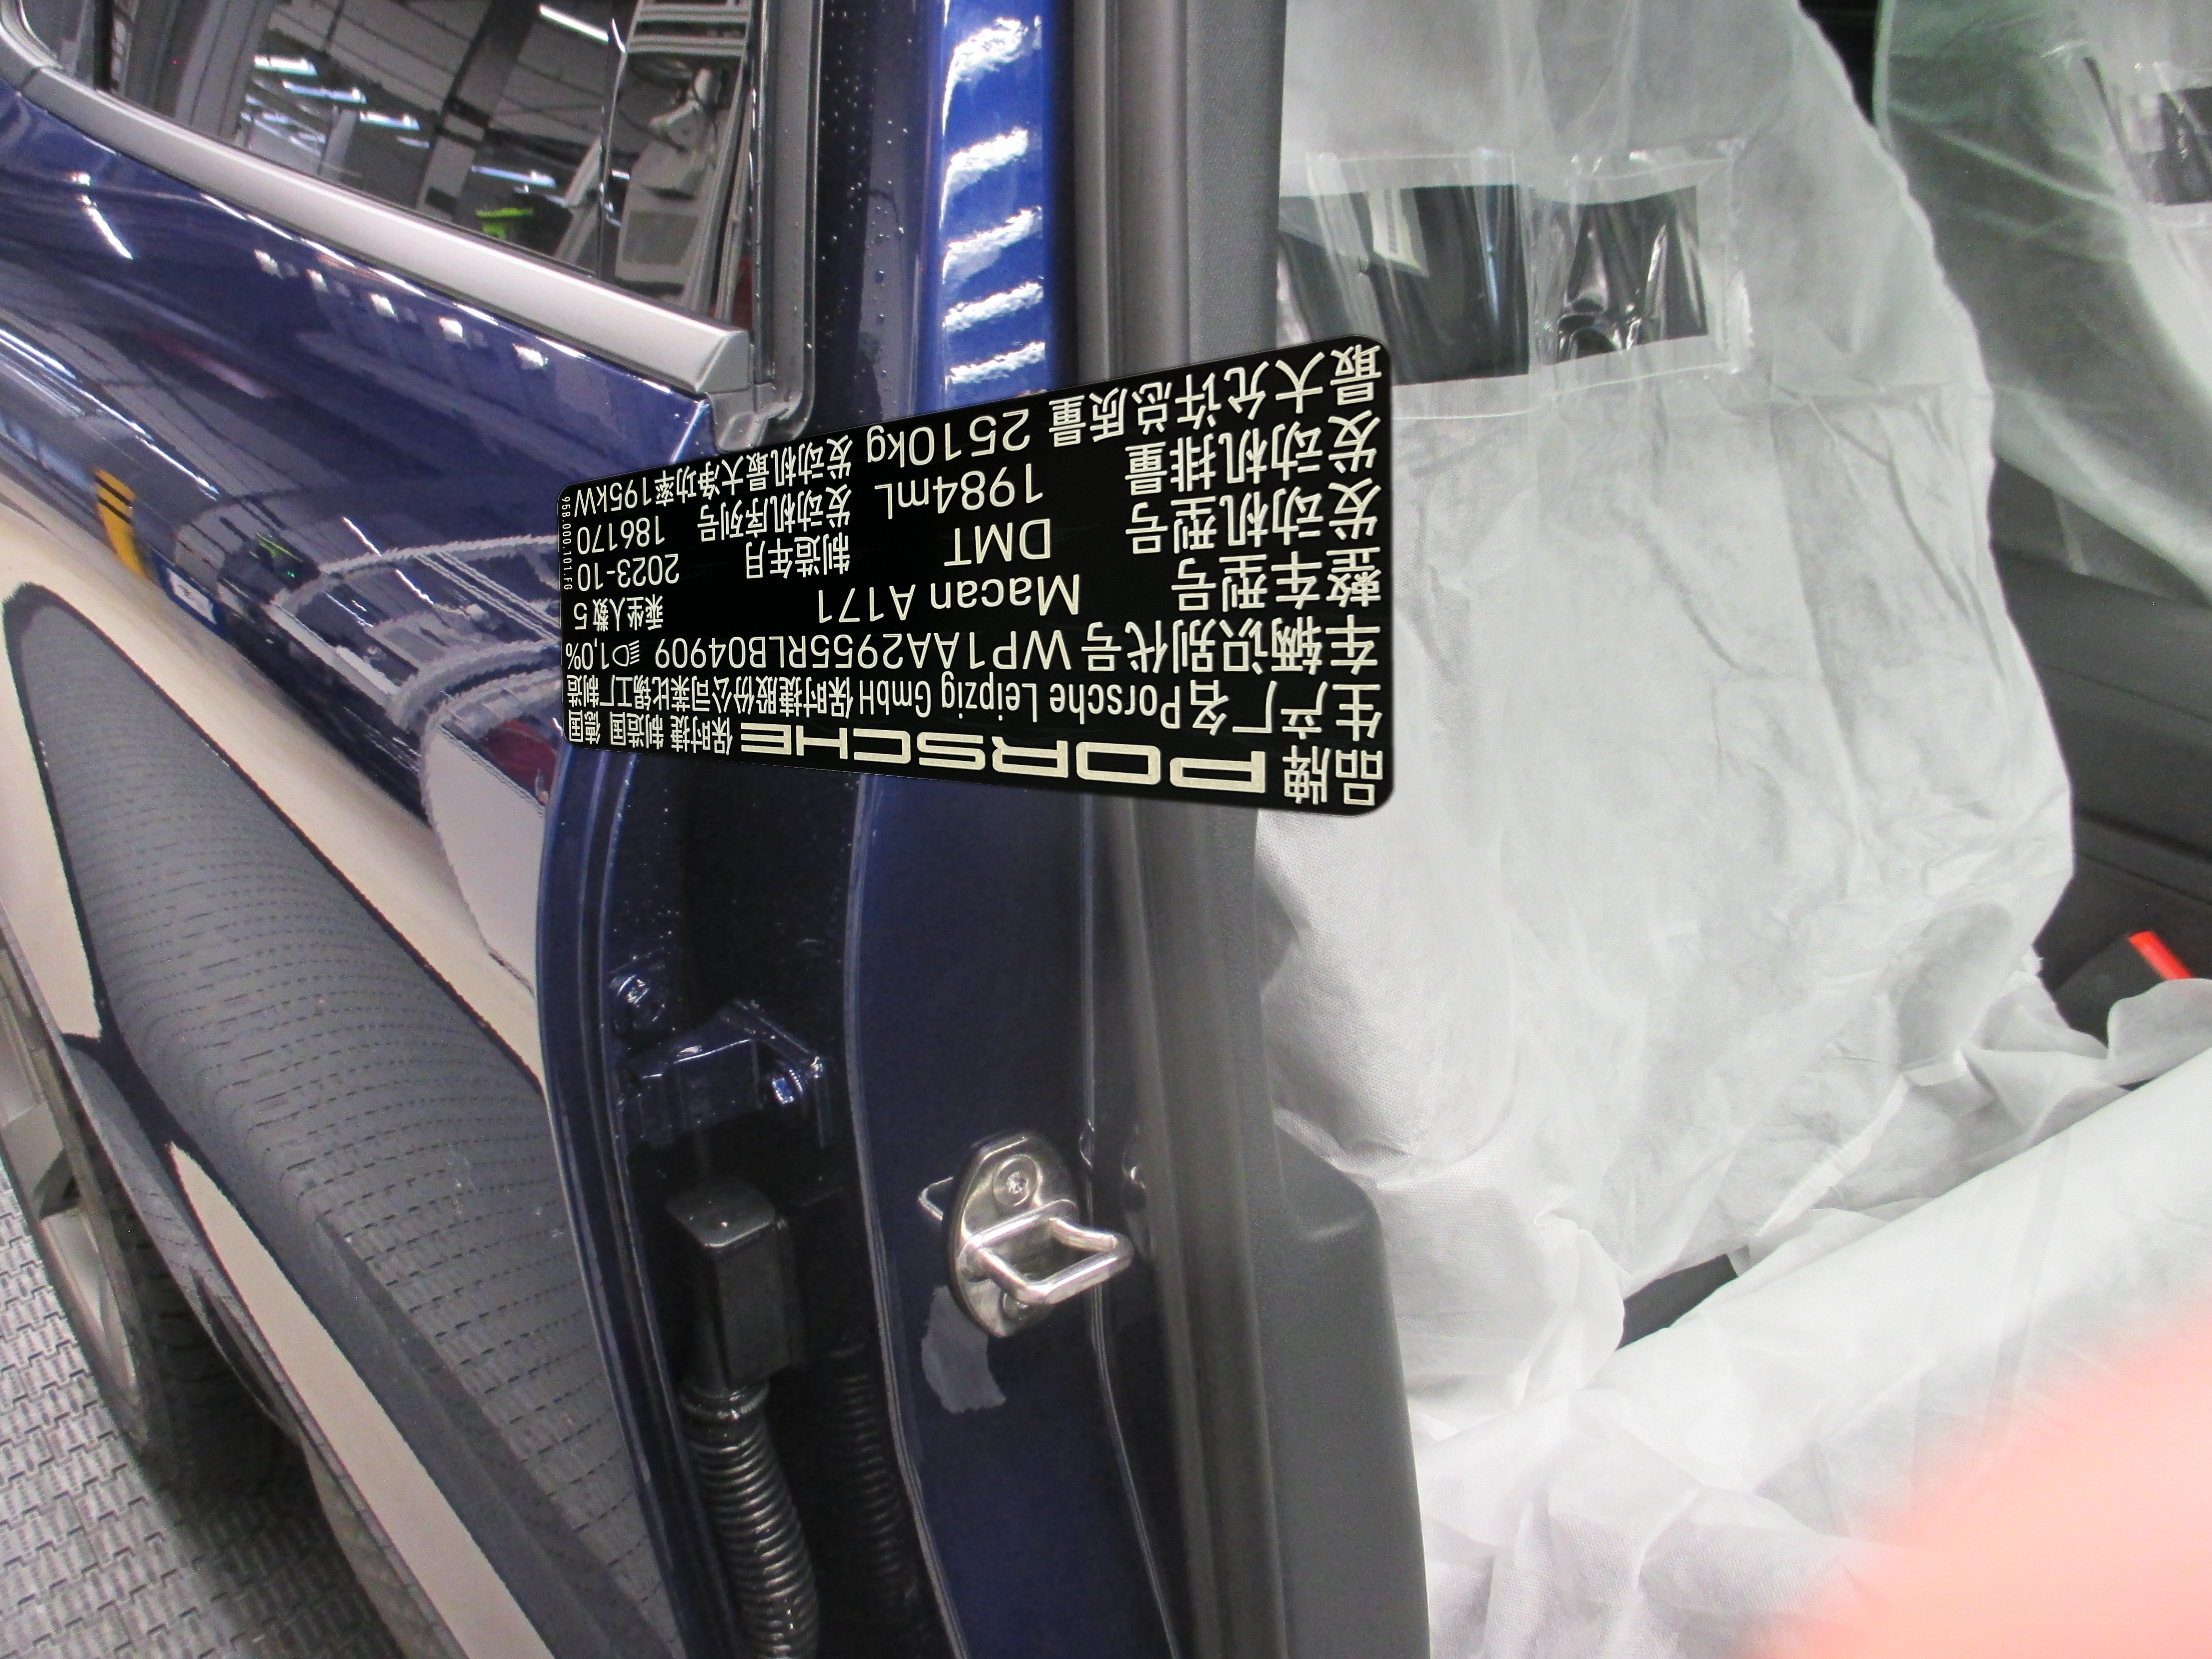Typlabel-China: (557, 335, 1393, 816)
